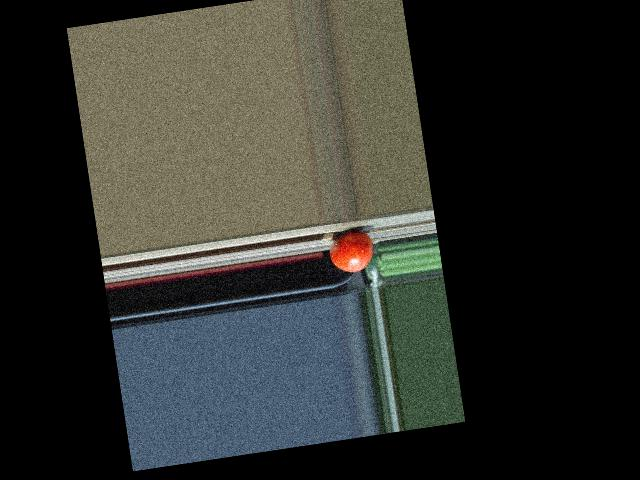tomato: (327, 229, 377, 275)
